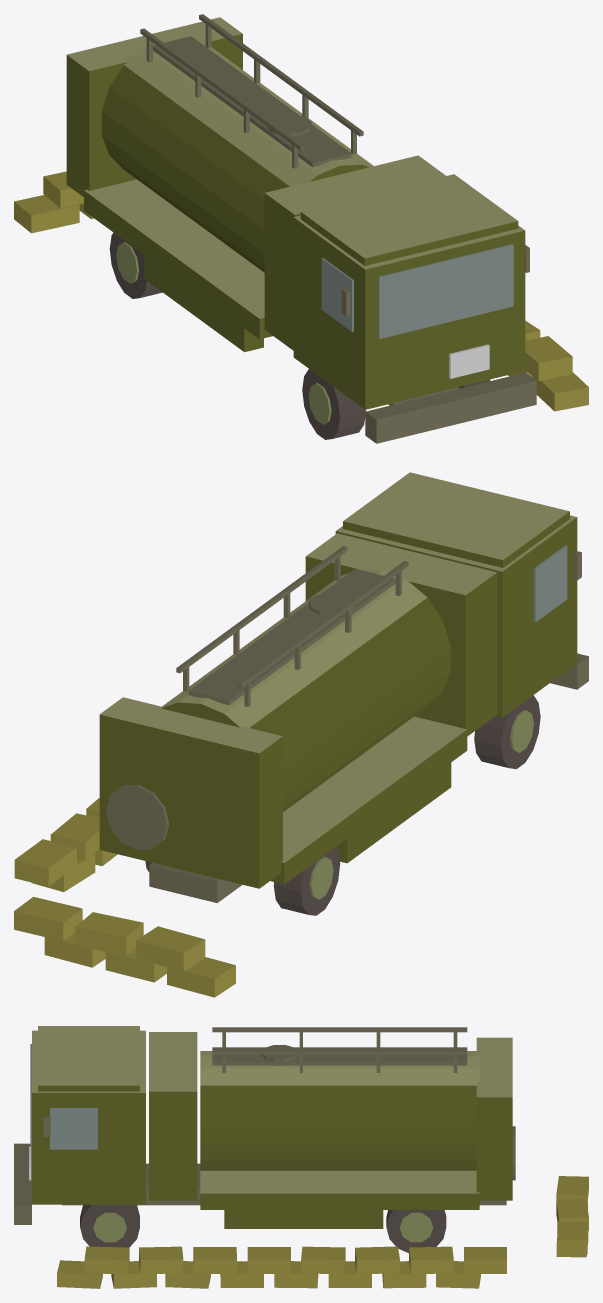
The model's file is SM_CamionCisterna_v2_Protegido_LOD0.fbx.
The picture shows the model from 3 angles, top to bottom: view 1: azimuth 30°, elevation 25°; view 2: azimuth 150°, elevation 25°; view 3: azimuth 270°, elevation 25°; orthographic projection. The views are drawn at different scales.
Parts seen in each view (by area): view 1: SM_camion_cisterna_v2_LOD0; view 2: SM_camion_cisterna_v2_LOD0; view 3: SM_camion_cisterna_v2_LOD0.
Part boxes in pixels (x1,y1,x2,y2): SM_camion_cisterna_v2_LOD0: (14, 14, 588, 443); SM_camion_cisterna_v2_LOD0: (14, 472, 588, 997); SM_camion_cisterna_v2_LOD0: (14, 1026, 588, 1288).
Bounding box in the file's own units: 3.91 × 3.41 × 9.57.
